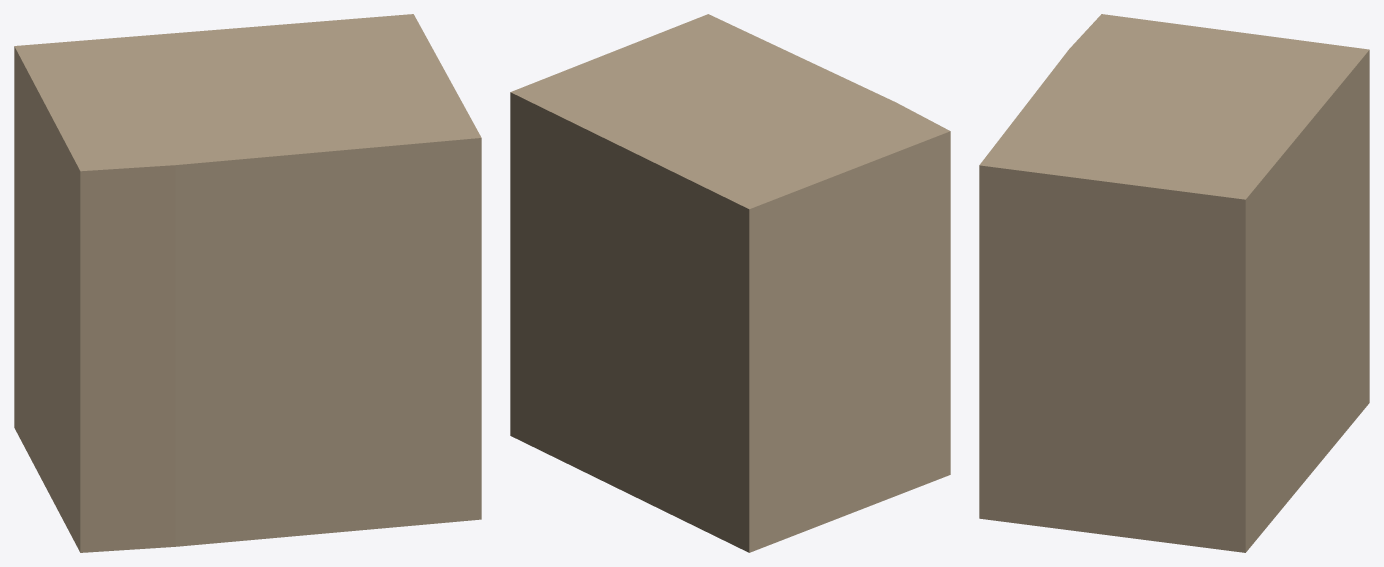
File: bld_99615910.dae
3 renders of one model, left to right at view 1: azimuth 30°, elevation 25°; view 2: azimuth 150°, elevation 25°; view 3: azimuth 270°, elevation 25°, orthographic. The views are drawn at different scales.
Parts seen in each view (by area): view 1: bld_99615910; view 2: bld_99615910; view 3: bld_99615910.
Part boxes in pixels (x1=…): bld_99615910: x1=14, y1=14, x2=481, y2=552; bld_99615910: x1=510, y1=14, x2=950, y2=552; bld_99615910: x1=979, y1=14, x2=1369, y2=552.
Size of the model in its own units: 9.02 by 8.01 by 8.
